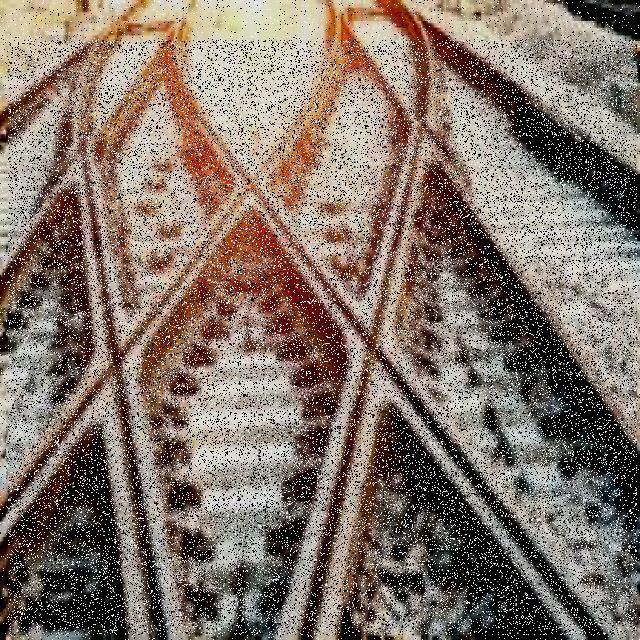rail: (0, 3, 640, 640)
